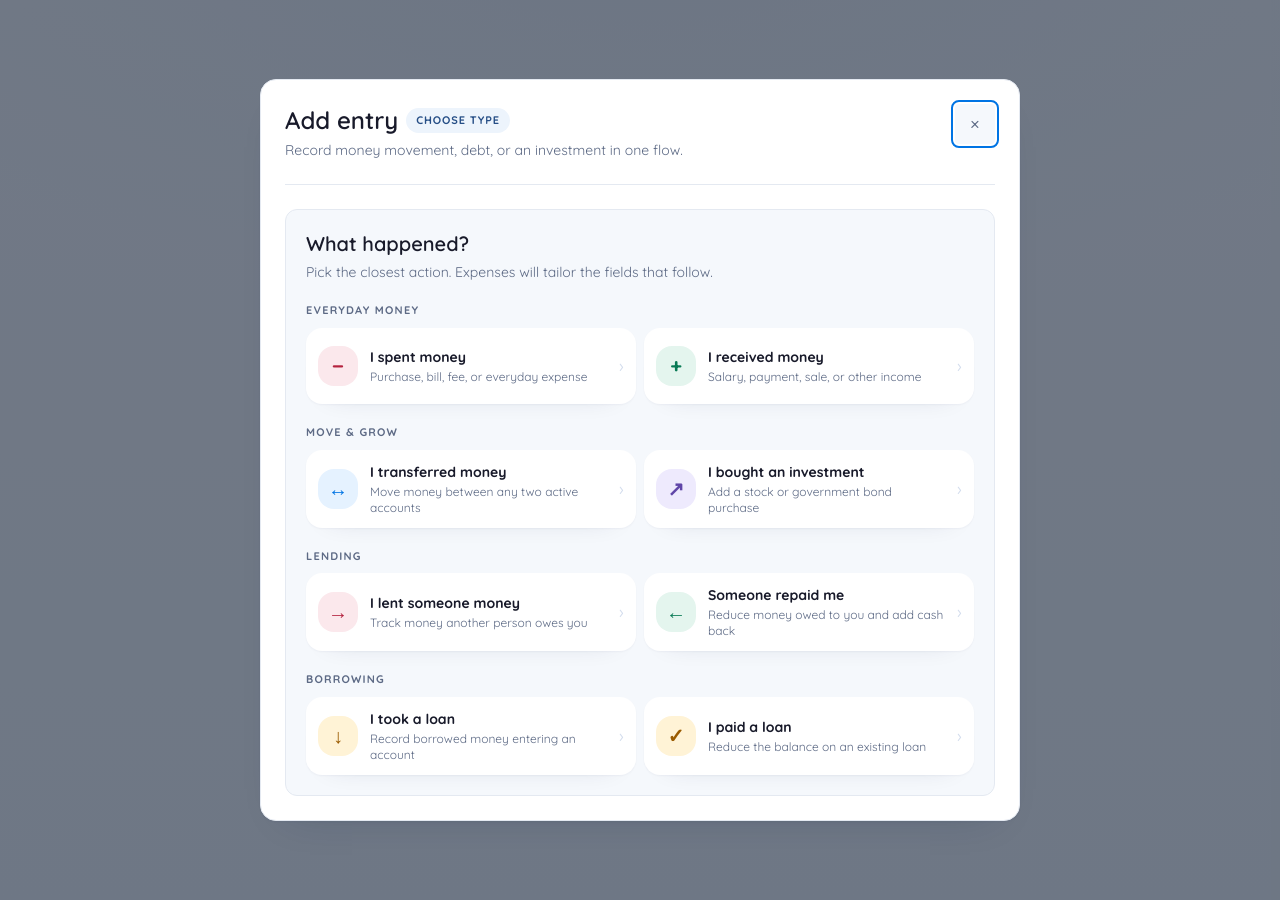
Test: AddEntryDialog › shows category hierarchy as readable paths
What coordinates should you click on to do the following:
click the button "I spent money"
I would click on:
 (338, 366)
Its box is [306,328,636,404].
(page scrolled)
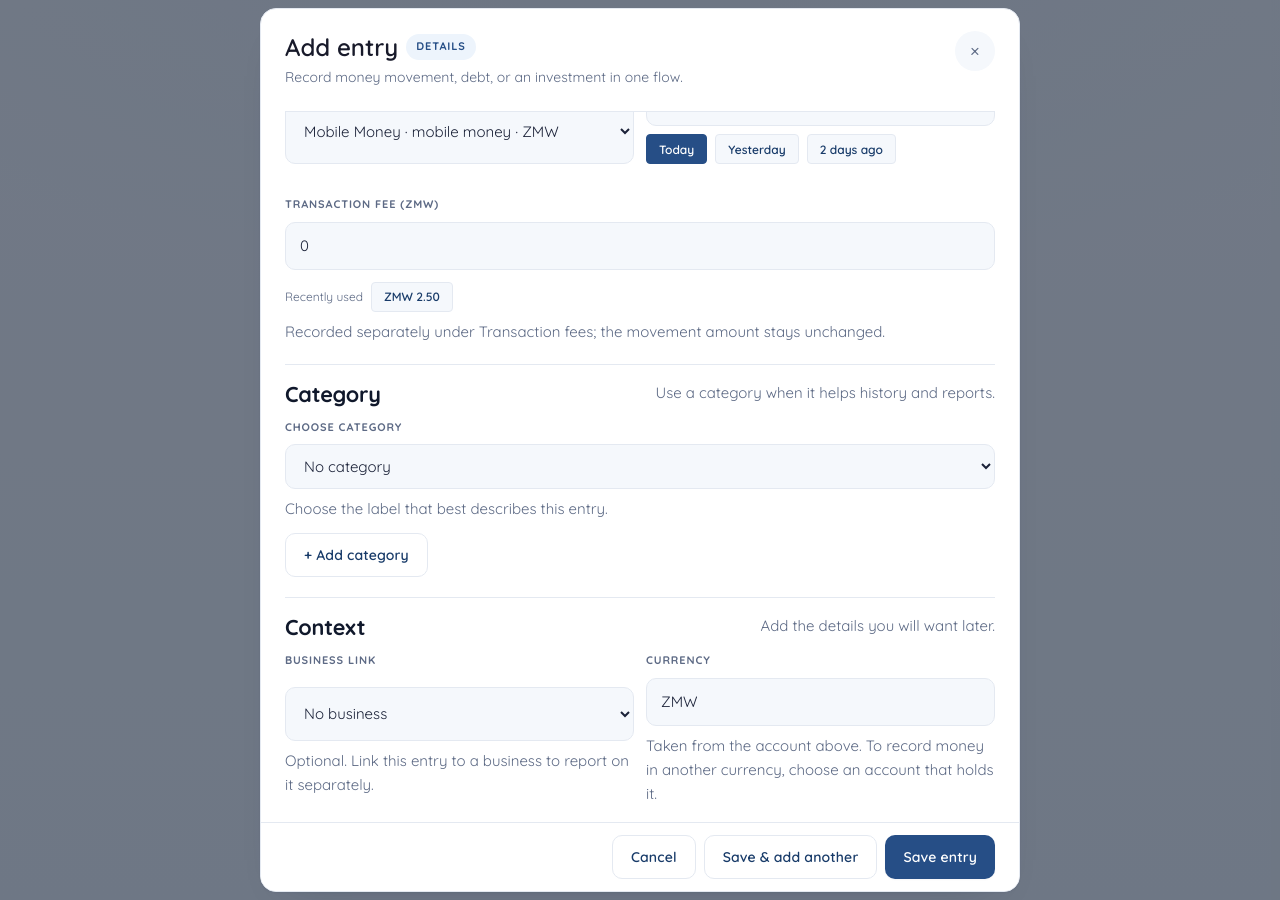
Expected: the dropdown labelled "Choose category" no longer shows "Salary", [285,444,995,489]
